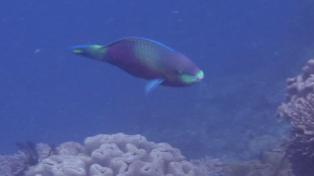Scaridae -Parrotfishes-: (67, 31, 203, 97)
